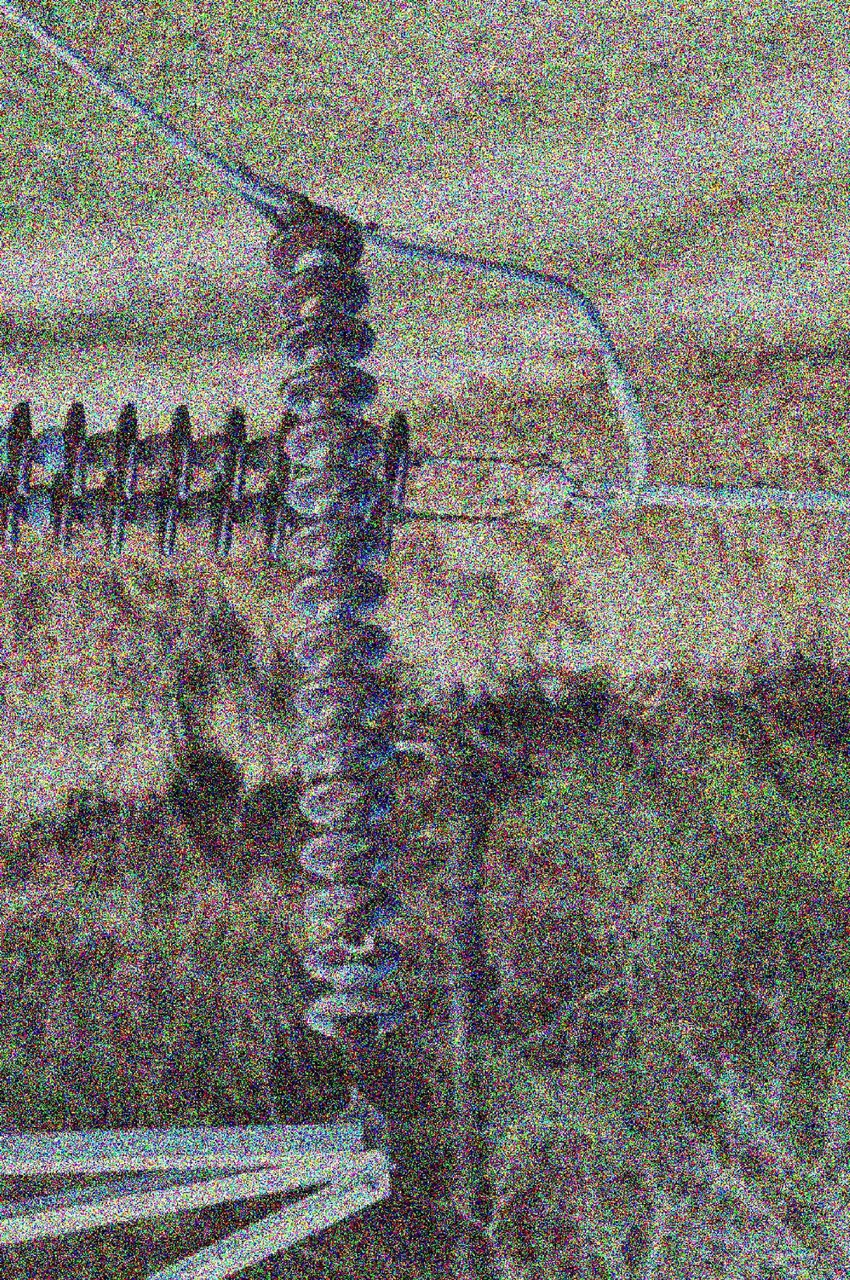Broken: (296, 931, 404, 992)
No issues: (300, 987, 407, 1061), (263, 213, 370, 278), (291, 723, 399, 783), (288, 669, 396, 729), (286, 617, 394, 677), (281, 566, 389, 626), (280, 464, 388, 524), (275, 359, 383, 419), (275, 311, 383, 371), (292, 774, 400, 833), (282, 515, 390, 574), (275, 413, 383, 472), (268, 263, 376, 322), (191, 400, 251, 505), (135, 399, 195, 504), (82, 398, 142, 503), (34, 398, 94, 503), (292, 828, 400, 884), (297, 878, 405, 934), (223, 499, 286, 560), (69, 498, 132, 559), (19, 495, 82, 556), (176, 499, 238, 560), (121, 499, 183, 560), (16, 499, 78, 560), (386, 410, 410, 507)
String: (255, 202, 413, 1070), (0, 396, 284, 505), (0, 498, 284, 564)
